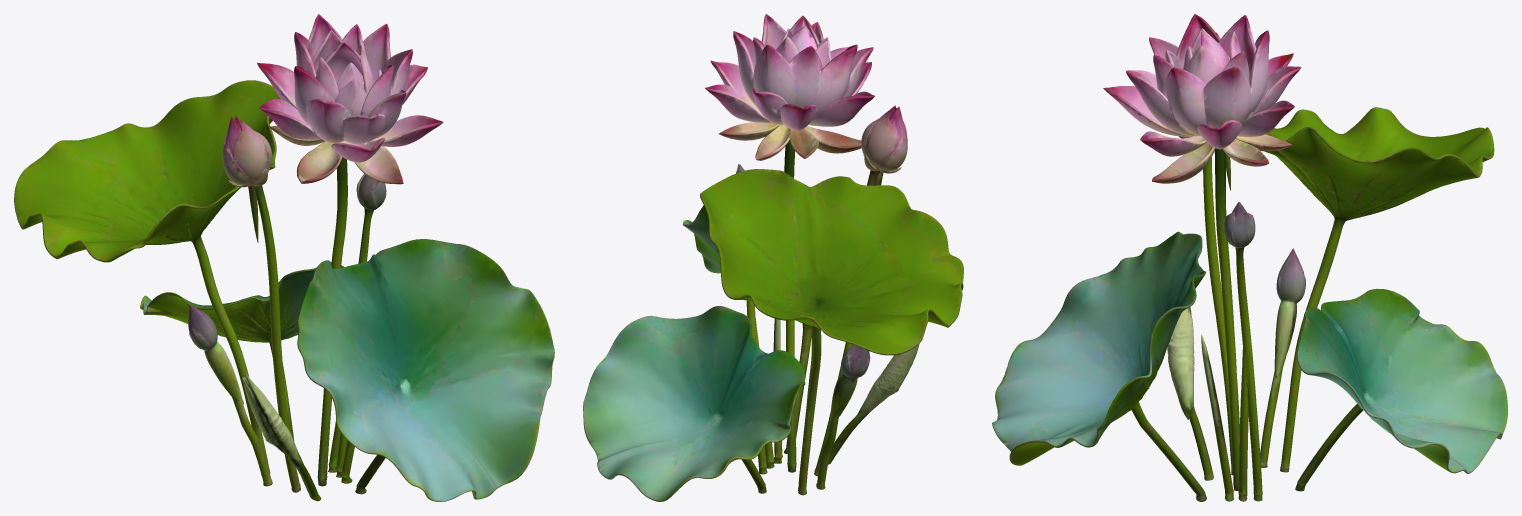
File: HeHua_3.glb
3 renders of one model, left to right at view 1: azimuth 30°, elevation 25°; view 2: azimuth 150°, elevation 25°; view 3: azimuth 270°, elevation 25°, orthographic. The views are drawn at different scales.
Visible parts, largest first — view 1: node_0; view 2: node_0; view 3: node_0.
Part boxes in pixels (x1,y1,x2,y2): node_0: (14,14,554,501); node_0: (583,14,963,501); node_0: (992,14,1507,501).
Bounding box in the file's own units: 0.8293 × 0.9406 × 0.9457.
Materials: 1 (1 with a texture image).
